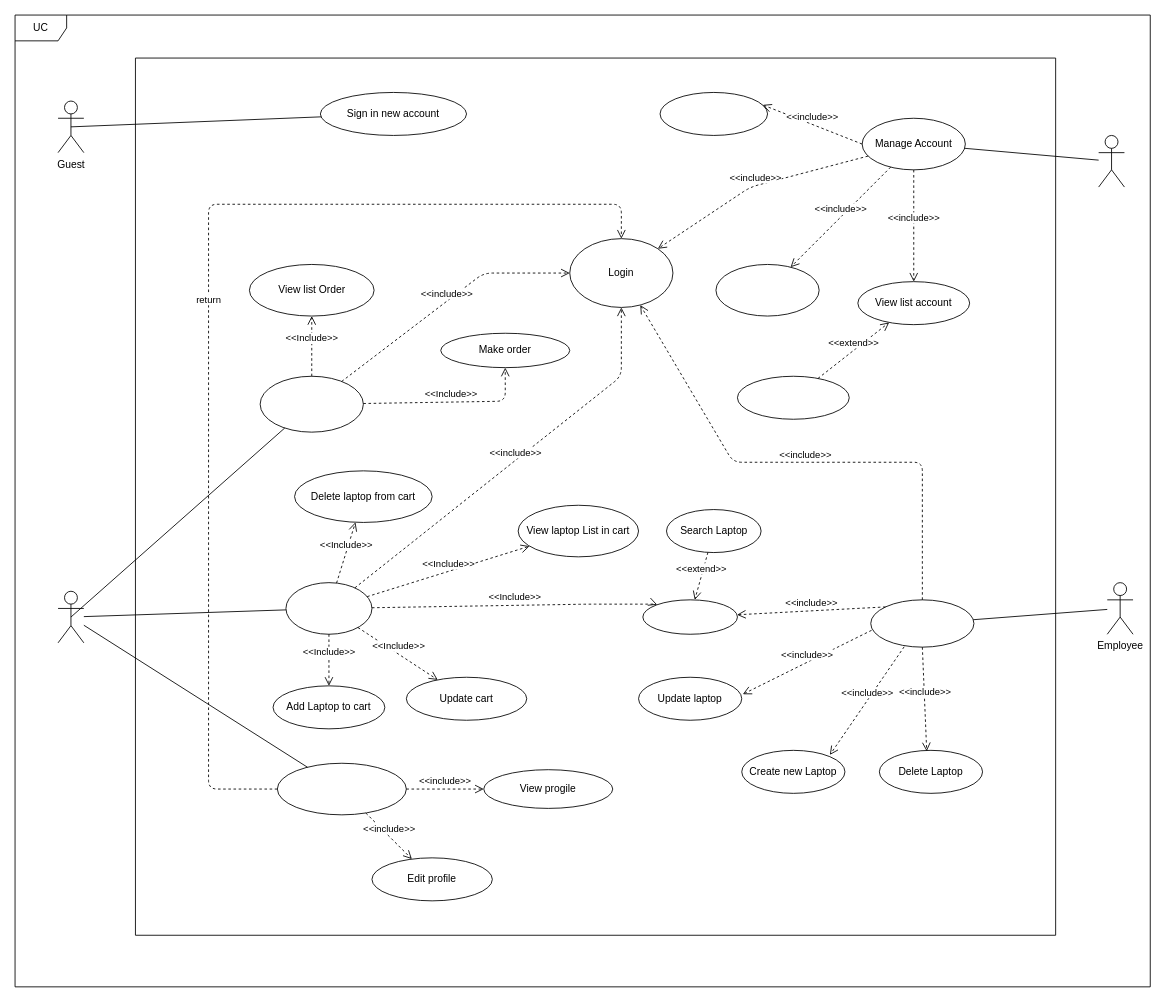
This 1165x1002 diagram has some shape labels left out. The shapes that lost their labels are listed below. From the top down, each one's centre as x and y in pixels, then its label:
the point at 713,113: Edit account
the point at 1111,161: Admin
the point at 767,290: Delete account
the point at 311,403: Manage Order
the point at 793,397: Search account
the point at 70,616: Customer
the point at 328,608: Manage cart
the point at 689,616: View list Laptop
the point at 922,623: Manage Laptop
the point at 341,788: Manage profile
